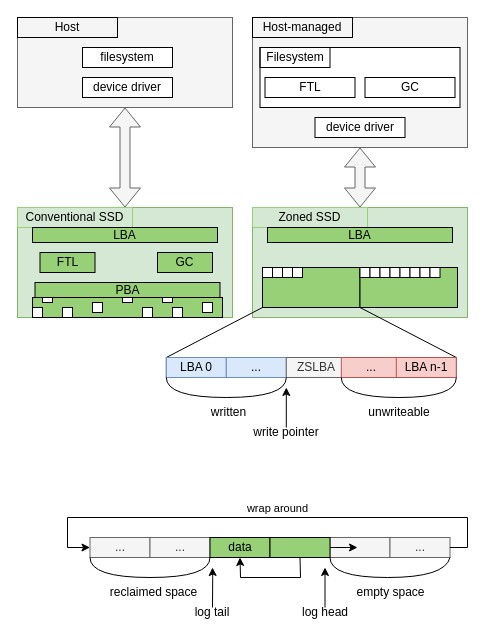
The diagram is 493 pixels wide and 637 high, and some of its shapes have lost their labels. The shapes that lost their labels are listed below. From the top down, each one's box as (x1, y1, x2, y2) in pixels, then its label:
(269, 536, 330, 558): inode
(329, 536, 390, 558): log
